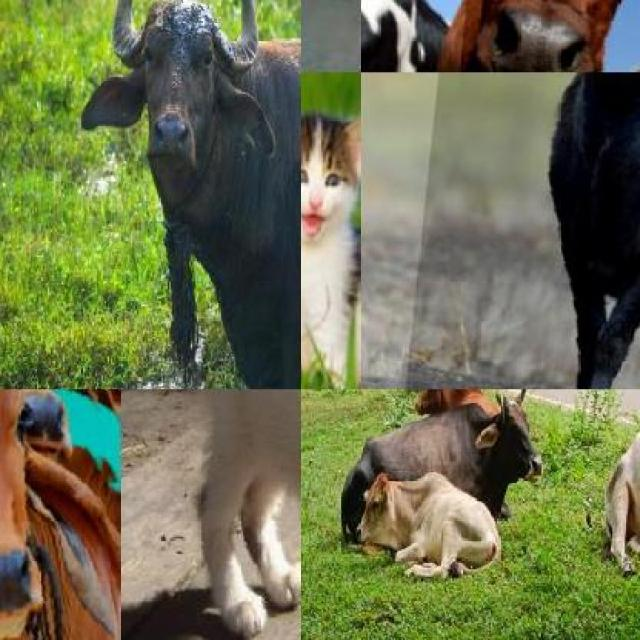buffalo: (397, 73, 640, 390), (106, 0, 300, 389)
cat: (120, 389, 300, 640), (300, 105, 360, 389)
cow: (0, 389, 120, 640), (348, 398, 544, 514), (449, 0, 640, 72), (0, 389, 120, 491), (600, 418, 640, 577)
